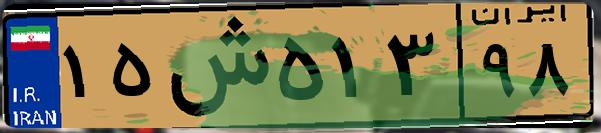1: (330, 28, 385, 110), (57, 26, 110, 100)
3: (385, 28, 445, 110)
5: (270, 28, 330, 110), (110, 28, 158, 98)
8: (525, 38, 570, 115)
9: (475, 38, 525, 113)
ش: (158, 12, 270, 120)
